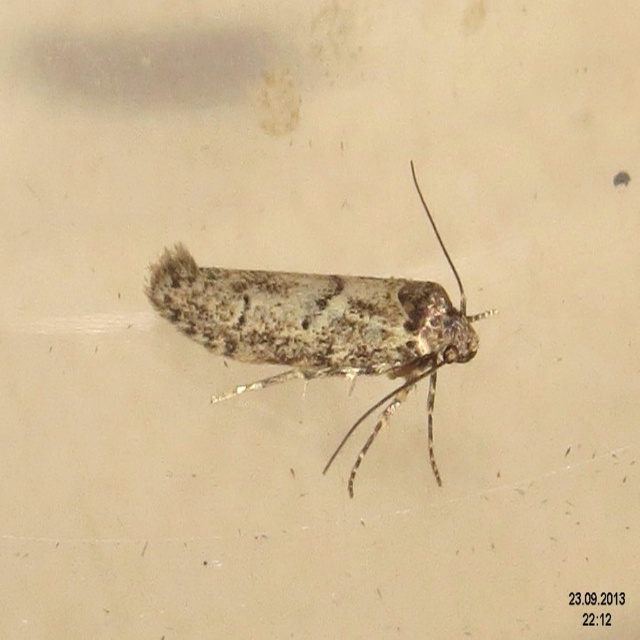Moths and butterflies: (144, 161, 502, 502)
